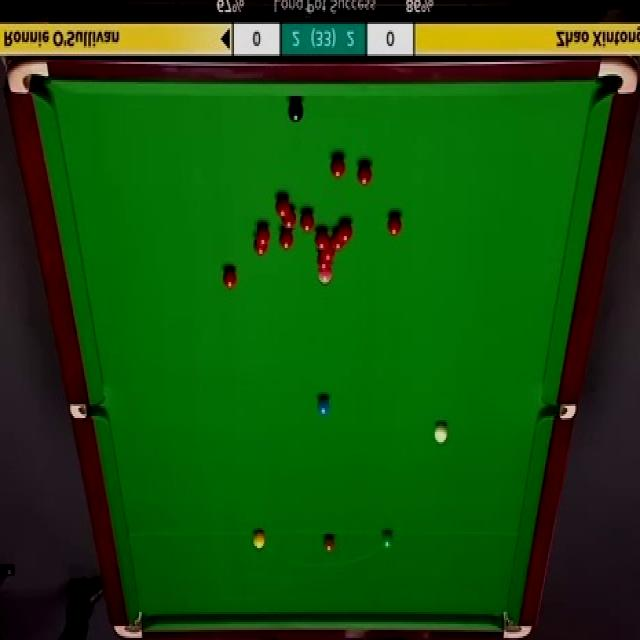black-ball: (288, 98, 304, 126)
blue-ball: (316, 393, 330, 418)
brown-ball: (322, 534, 334, 552)
green-ball: (382, 530, 393, 550)
pink-ball: (316, 272, 332, 286)
red-ball: (276, 193, 292, 218), (356, 163, 372, 186), (300, 211, 316, 233), (330, 157, 346, 179), (256, 221, 271, 244), (339, 220, 353, 244), (388, 214, 403, 236), (222, 268, 236, 291), (253, 237, 269, 257), (279, 228, 294, 248), (284, 210, 298, 229), (313, 233, 329, 249), (332, 232, 347, 248), (318, 249, 336, 262), (316, 260, 332, 270)
white-ball: (433, 419, 449, 445)
yellow-ball: (252, 530, 267, 551)
